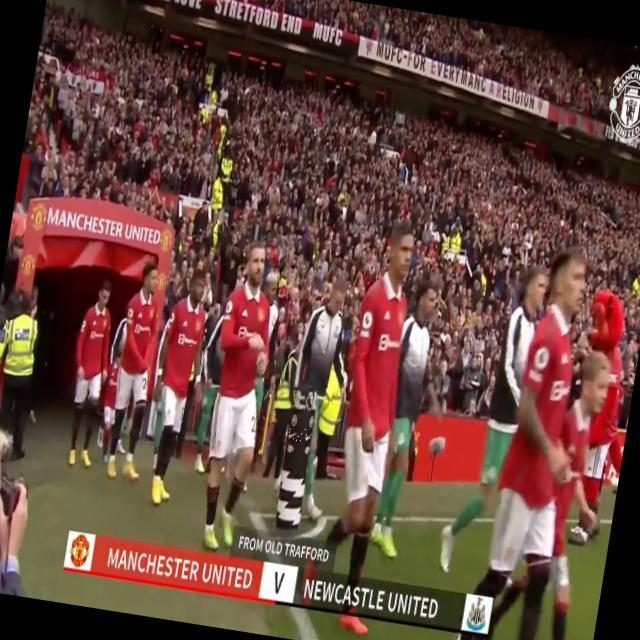Nike: (286, 427, 314, 447)
TeamViewer: (550, 378, 571, 404), (379, 333, 402, 354), (178, 332, 198, 347)
